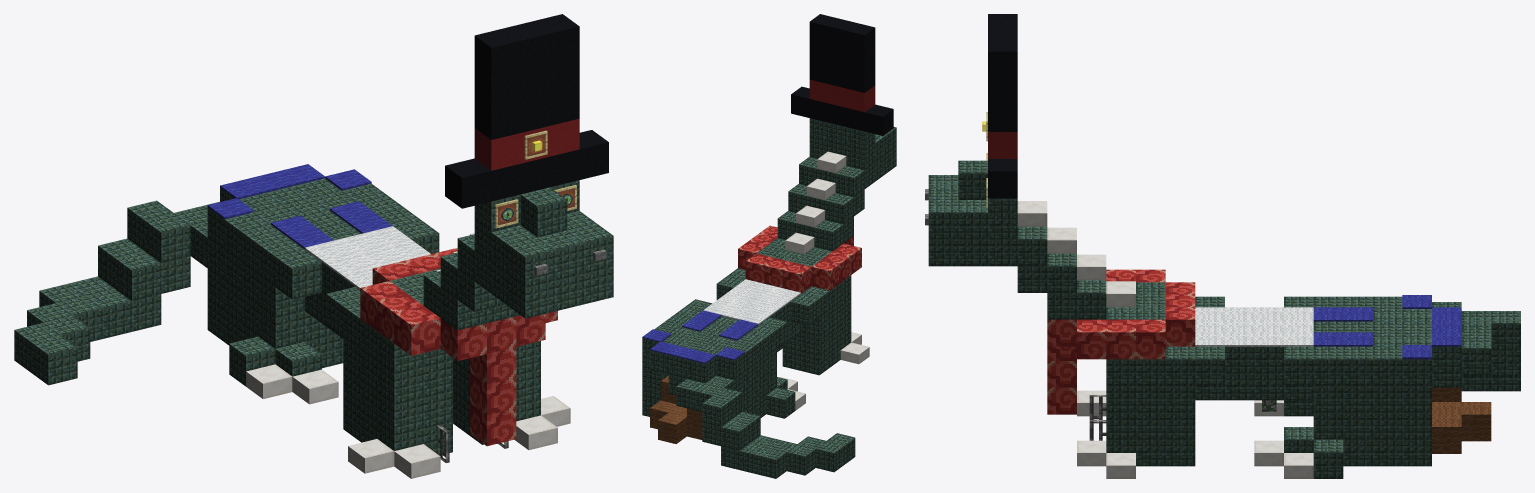
Rendered from castle1.glb.
The picture shows the model from 3 angles, left to right: view 1: azimuth 30°, elevation 25°; view 2: azimuth 150°, elevation 25°; view 3: azimuth 270°, elevation 25°; orthographic projection. The views are drawn at different scales.
Visible parts, largest first — view 1: node_id677, node_id679, node_id667, node_id671, node_id673, node_id661, node_id663; view 2: node_id677, node_id679, node_id667, node_id671, node_id661, node_id669, node_id673; view 3: node_id667, node_id677, node_id679, node_id661, node_id669, node_id663, node_id673, node_id671.
Boxes of the visible parts, x1,y1,x2,y2 form: node_id677: (31, 126, 567, 478); node_id679: (14, 171, 295, 372); node_id667: (296, 118, 608, 449); node_id671: (474, 21, 550, 139); node_id673: (508, 230, 583, 318); node_id661: (533, 14, 579, 125); node_id663: (567, 223, 613, 304); node_id677: (680, 84, 893, 463); node_id679: (658, 346, 844, 478); node_id667: (642, 79, 827, 416); node_id671: (828, 18, 875, 92); node_id661: (809, 14, 838, 83); node_id669: (650, 341, 678, 429); node_id673: (885, 127, 896, 173); node_id667: (958, 132, 1431, 478); node_id677: (958, 112, 1431, 416); node_id679: (1432, 302, 1520, 441); node_id661: (988, 39, 1017, 131); node_id669: (1432, 332, 1461, 453); node_id663: (925, 200, 958, 266); node_id673: (925, 175, 958, 200); node_id671: (988, 14, 1017, 38).
Bounding box in the file's own units: 3.96 × 4.94 × 6.63.
20 materials, 20 textured.
